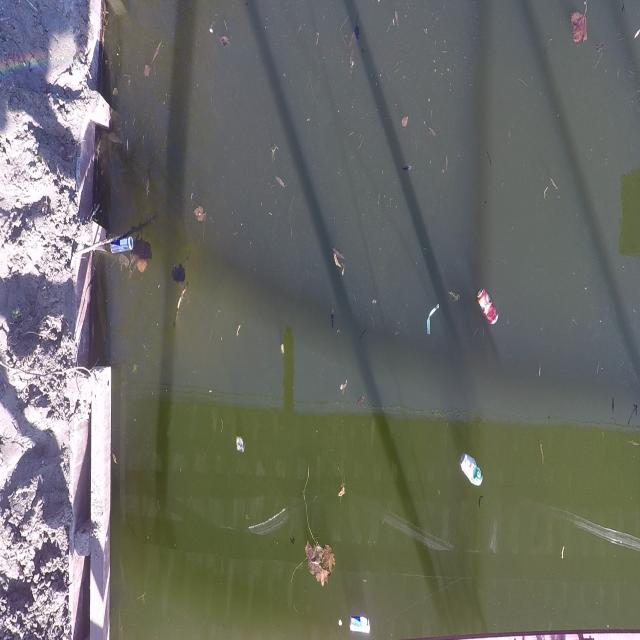Non plastique: (478, 288, 500, 324), (460, 452, 482, 485), (110, 237, 133, 254), (351, 617, 371, 632)
